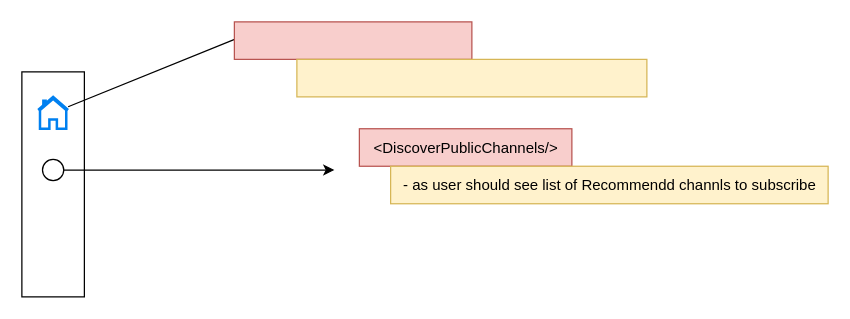
This 850x319 diagram has some shape labels left out. Here are the shapes that lost their labels. From the top down, the centre of each, then its label:
At (352,40): "<ChannelGallary_subscribed/>".
At (471,77): "- as user should see list of subscribed channels".
